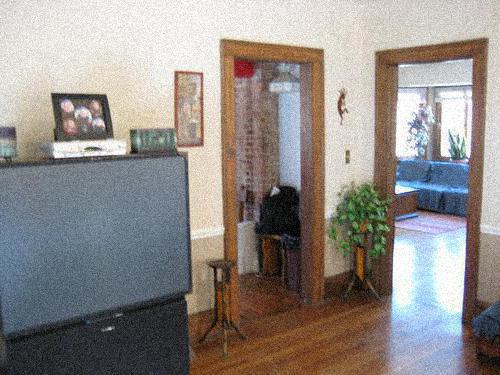Matera: (331, 183, 393, 304), (409, 99, 434, 187), (444, 128, 473, 170)
